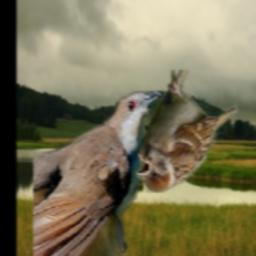Cuckoo: (34, 91, 162, 256)
Sparrow: (136, 70, 238, 194)
